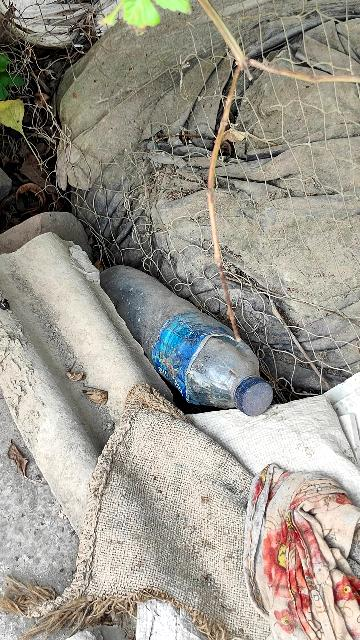bottle: (61, 247, 304, 457)
